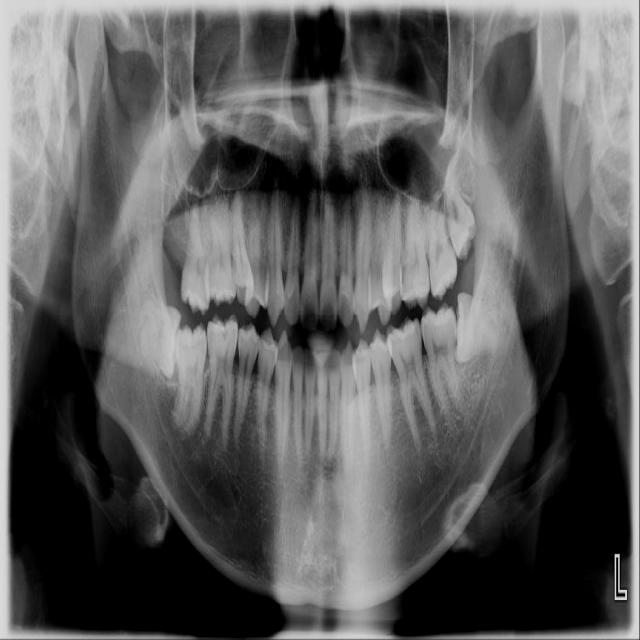impacted tooth: (132, 295, 181, 381), (440, 150, 476, 261), (456, 293, 510, 364)
